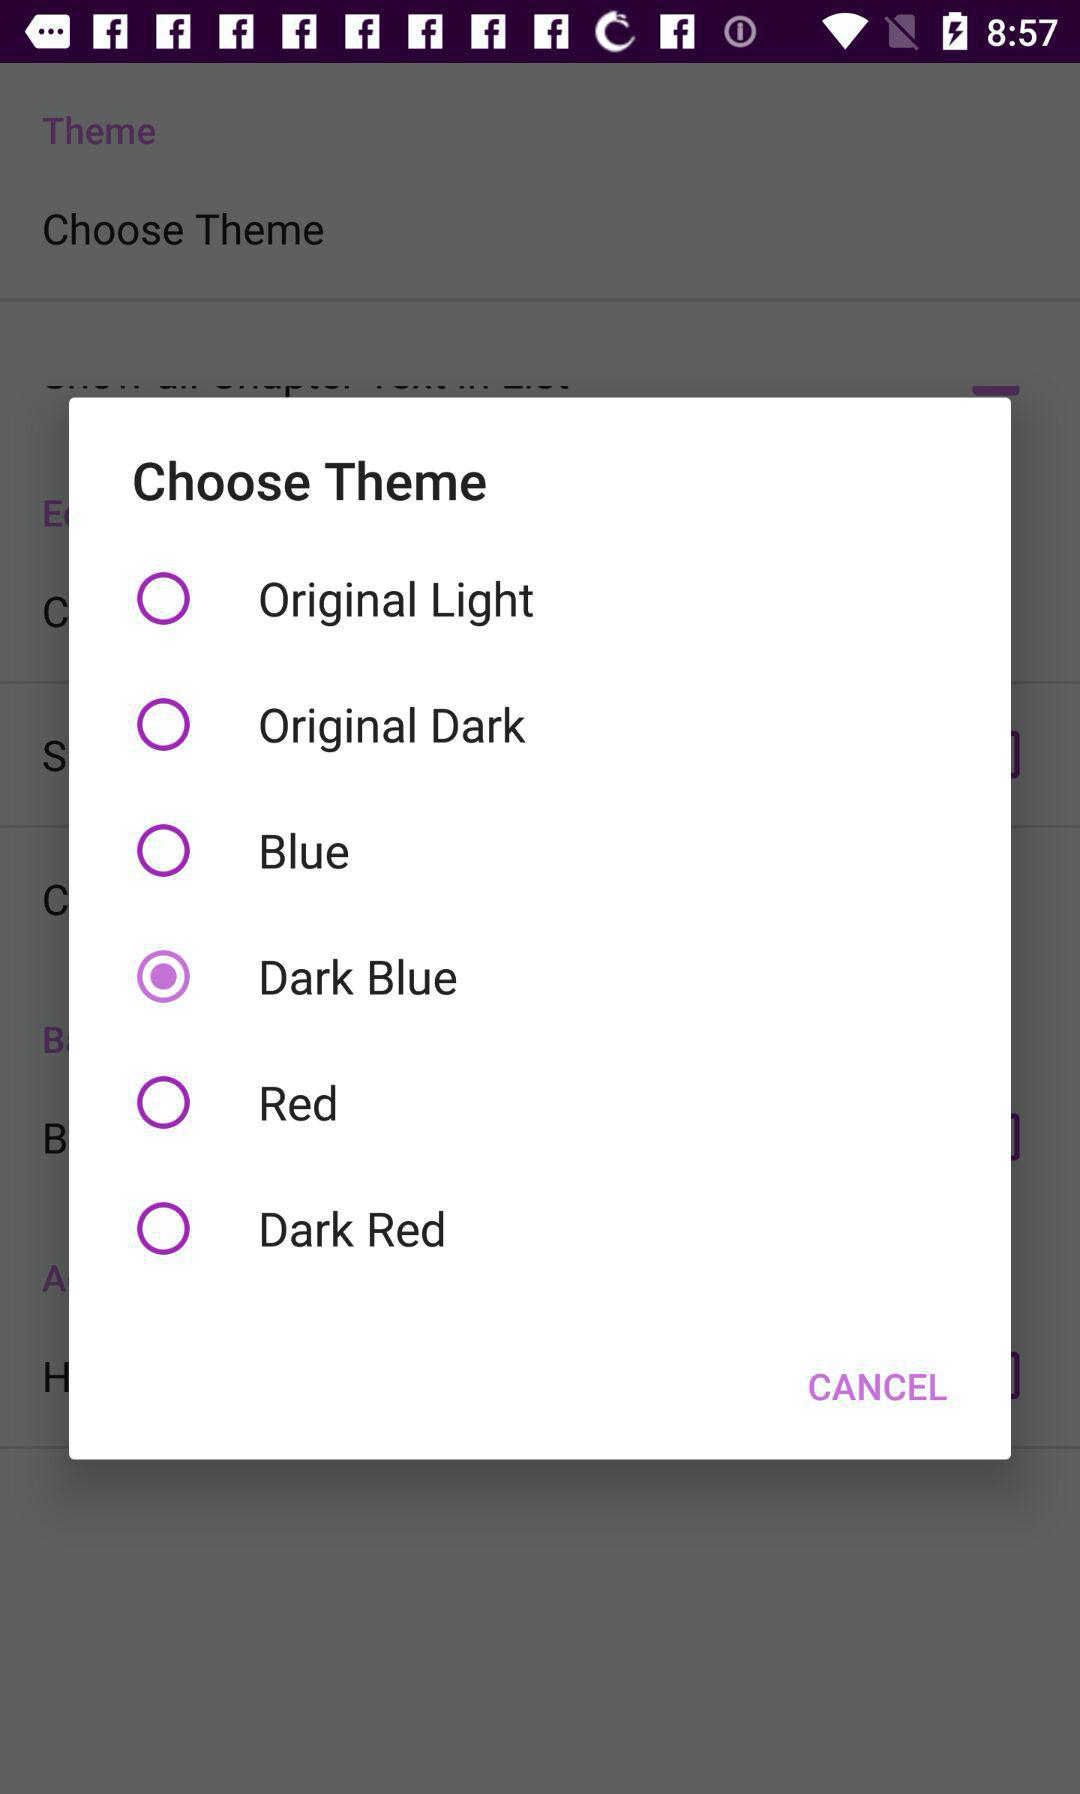CheckedTextView: (137, 698, 527, 753), (138, 573, 536, 627), (138, 950, 457, 1003), (137, 1201, 445, 1255), (137, 824, 348, 878), (138, 1076, 336, 1130)
Modal: (69, 399, 1012, 1461)
Text: (135, 459, 488, 504), (260, 580, 536, 627), (260, 707, 527, 753), (44, 213, 323, 247), (263, 959, 457, 997), (263, 1211, 445, 1248), (808, 1372, 948, 1401), (44, 117, 158, 147), (263, 833, 348, 871), (261, 1085, 336, 1123)
UpperTaskBar: (1, 1, 1080, 64)
